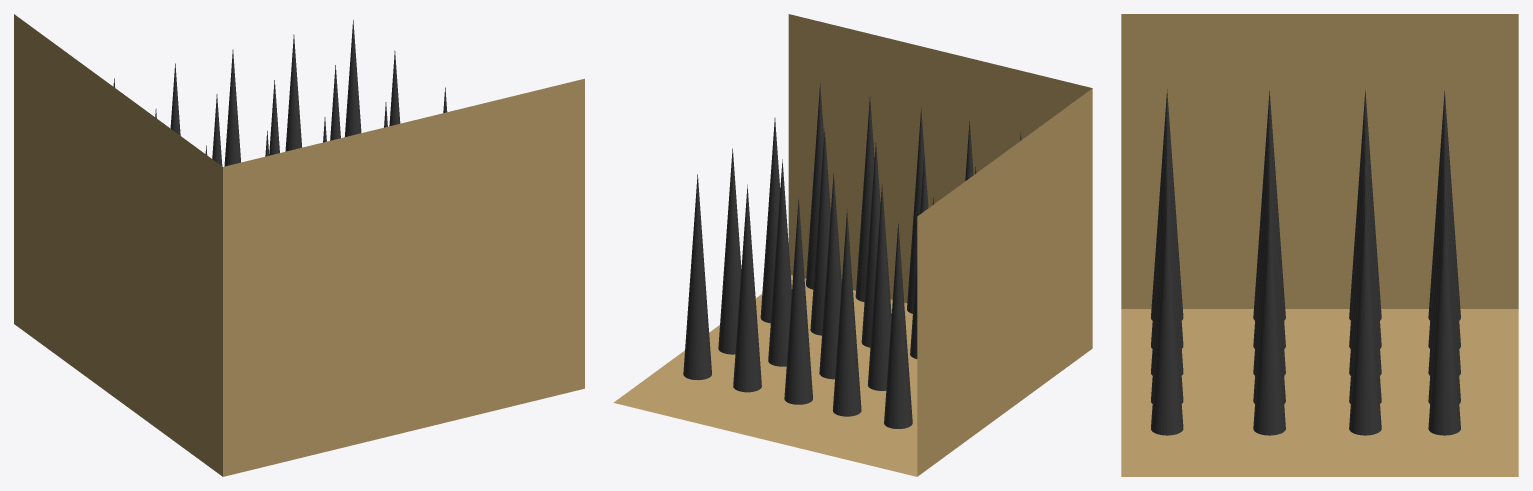
Rendered from Spike_Floor_Perp.fbx.
3 views of the same model, side by side, from view 1: azimuth 30°, elevation 25°; view 2: azimuth 150°, elevation 25°; view 3: azimuth 270°, elevation 25° (orthographic). The views are drawn at different scales.
Parts seen in each view (by area): view 1: Plane, Cone.016, Cone.017, Cone.015; view 2: Plane, Cone.016, Cone.018, Cone.015, Cone.019, Cone.017, Cone.013, Cone.011, Cone.010, Cone.012, Cone.006, Cone.005 (+5 smaller); view 3: Plane, Cone.010, Cone.005, Cone.015, Cone.004, Cone.014, Cone.009, Cone.019, Cone.012, Cone.017, Cone.007, Cone.002 (+9 smaller).
Boxes of the visible parts, box(x1,y1,x2,y2) form: Plane: box(14, 14, 584, 476); Cone.016: box(285, 34, 301, 151); Cone.017: box(224, 49, 240, 166); Cone.015: box(345, 20, 361, 136); Plane: box(613, 14, 1092, 476); Cone.016: box(733, 184, 761, 392); Cone.018: box(832, 208, 861, 416); Cone.015: box(683, 174, 711, 380); Cone.019: box(884, 223, 912, 428); Cone.017: box(784, 198, 812, 404); Cone.013: box(868, 183, 891, 390); Cone.011: box(768, 159, 791, 366); Cone.010: box(718, 148, 741, 354); Cone.012: box(819, 172, 841, 379); Cone.006: box(810, 128, 830, 335); Cone.005: box(760, 118, 780, 323); Plane: box(1121, 14, 1518, 476); Cone.010: box(1349, 201, 1381, 435); Cone.005: box(1253, 201, 1285, 435); Cone.015: box(1428, 201, 1460, 435); Cone.004: box(1151, 200, 1183, 435); Cone.014: box(1349, 90, 1381, 320); Cone.009: box(1253, 91, 1285, 320); Cone.019: box(1428, 90, 1460, 320); Cone.012: box(1349, 145, 1381, 375); Cone.017: box(1428, 145, 1460, 375); Cone.007: box(1253, 146, 1285, 375); Cone.002: box(1151, 144, 1183, 375).
Bounding box in the file's own units: 257 × 210 × 257.
